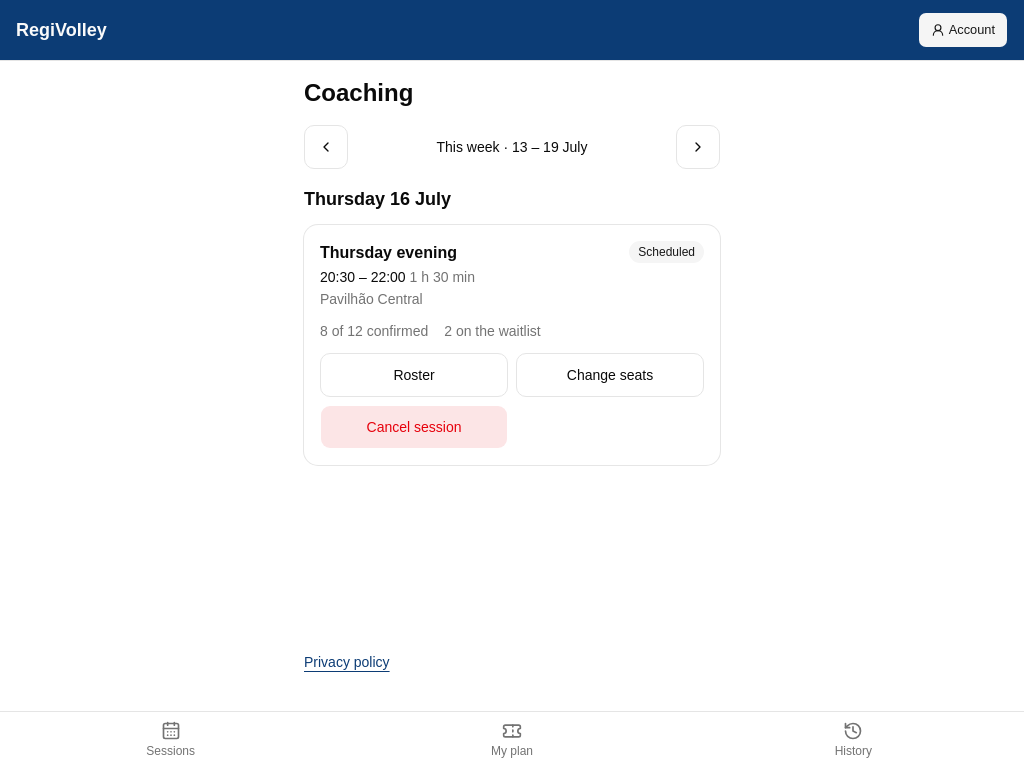
Scenario: cancel a session › warns how many members are told and refunded, and puts focus on the reason
Click the button "Cancel session".
click(414, 427)  # box [320,405,508,449]
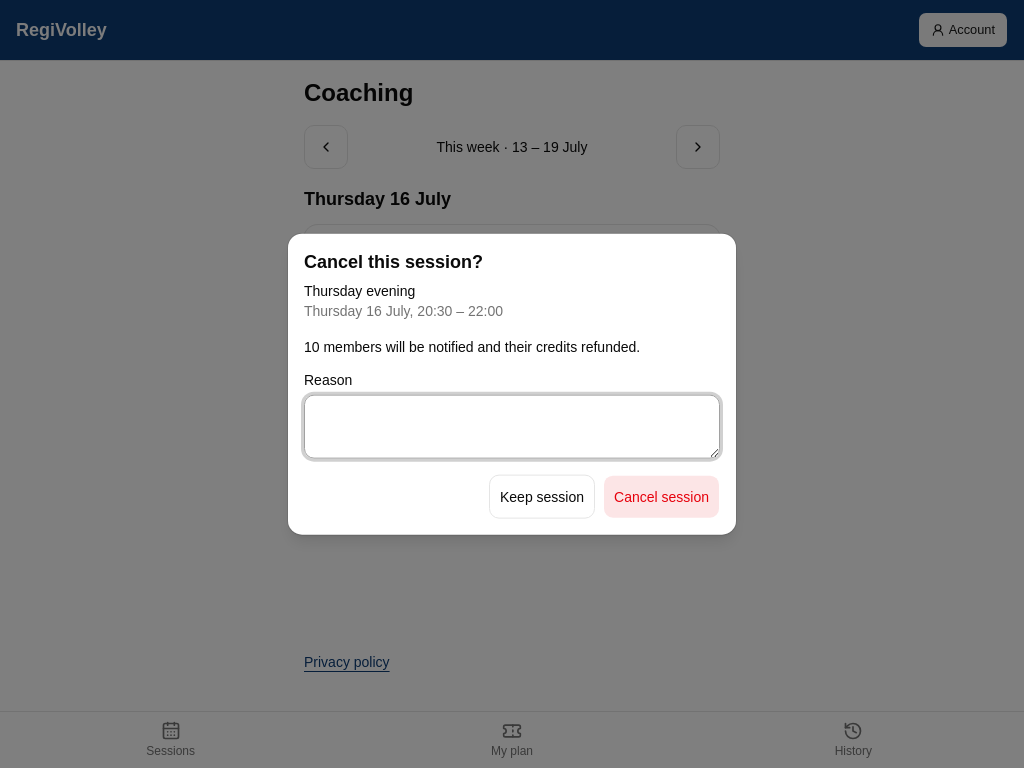
Check: the dialog "Cancel this session?" shows "10 members will be notified and their credits refunded.", box [304,338,640,354]
